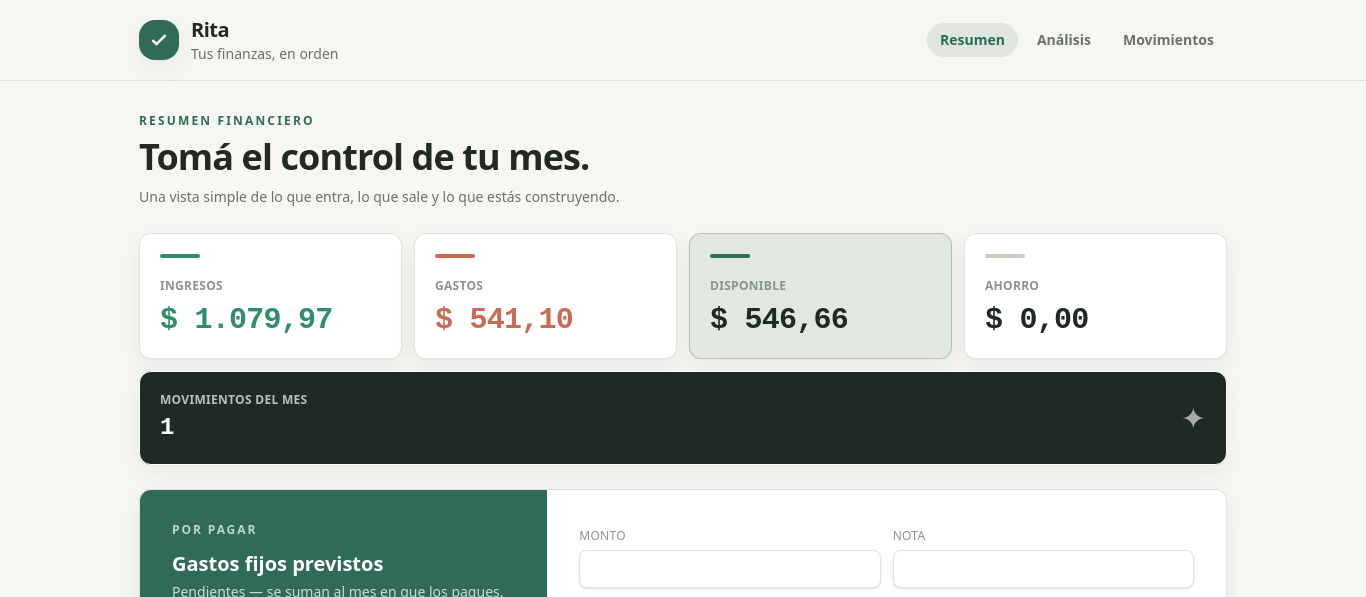
Test: App › shows only the charts section when Análisis is selected
Expected: the heading "Ingresos" is shown, [160,277,223,294]
Click the button "Análisis" at (1064, 40), box [1024,23,1104,57]
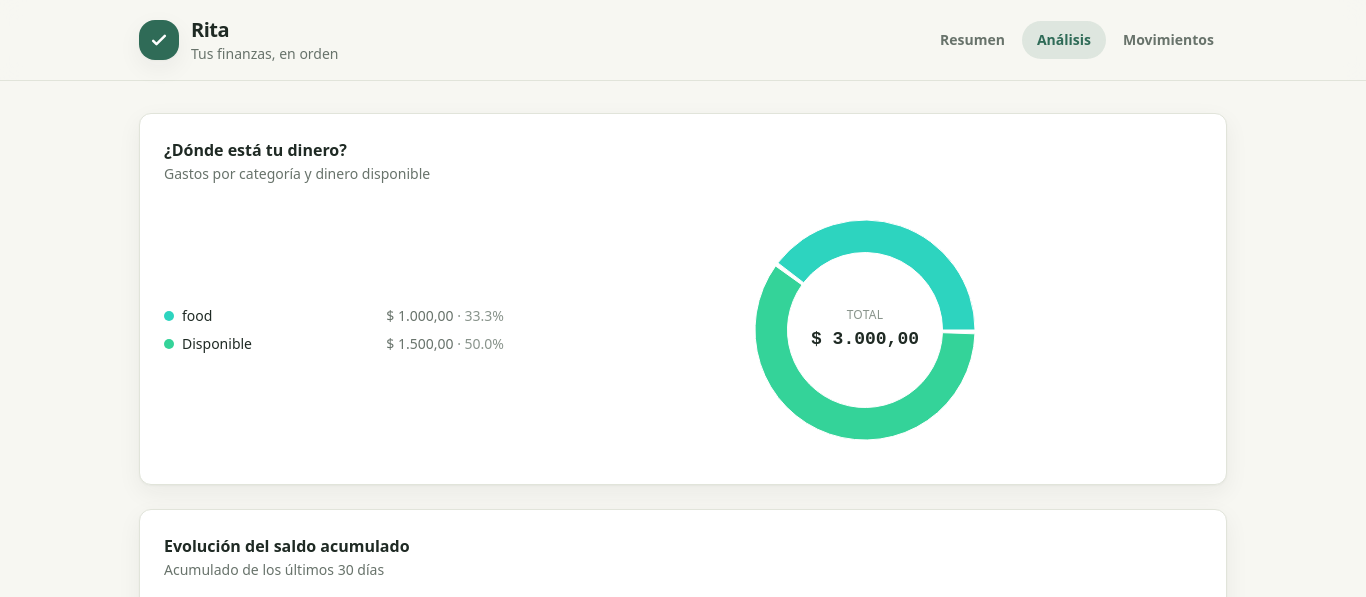
Now the heading "¿Dónde está tu dinero?" is shown, box [164,139,347,161]
Now the heading "Evolución del saldo acumulado" is shown, box [164,535,410,557]
Now the heading "Ingresos" is gone
